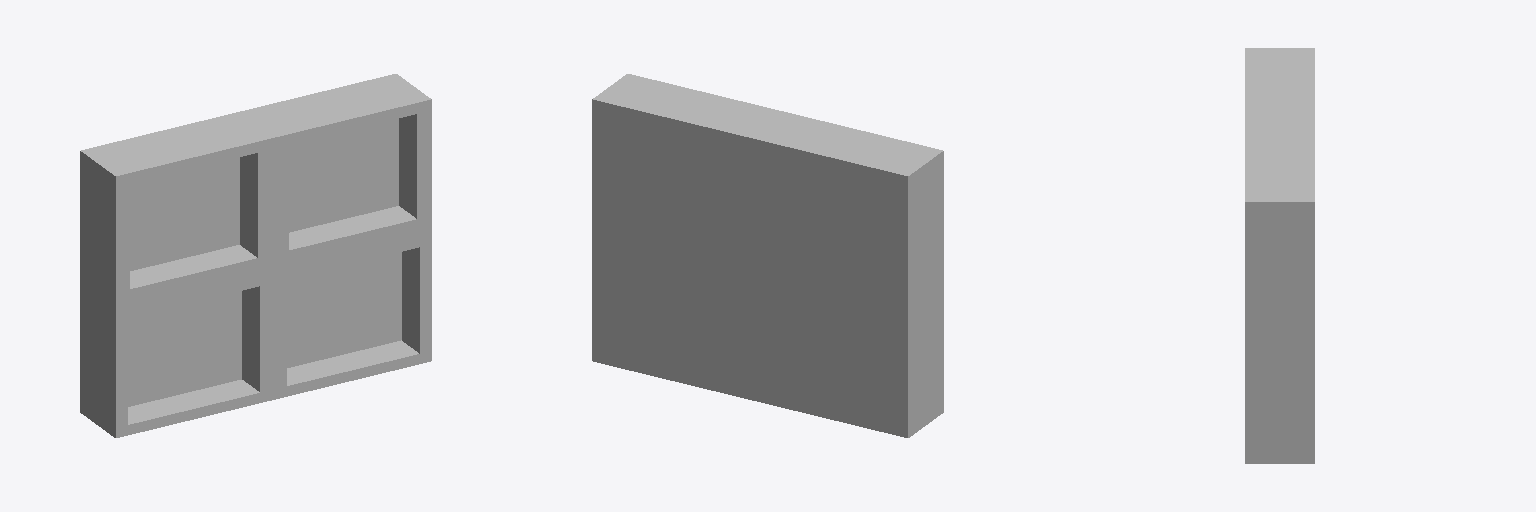
Rendered from NaturalHistory_Shelfsmall.obj.
The picture shows the model from 3 angles: view 1: azimuth 30°, elevation 25°; view 2: azimuth 150°, elevation 25°; view 3: azimuth 270°, elevation 25°; orthographic projection.
Parts seen in each view (by area): view 1: Shelf_small; view 2: Shelf_small; view 3: Shelf_small.
Boxes of the visible parts, x1,y1,x2,y2 form: Shelf_small: [80, 74, 431, 437]; Shelf_small: [592, 74, 943, 437]; Shelf_small: [1245, 48, 1314, 463].
Size of the model in its own units: 16.49 by 13.06 by 3.2.